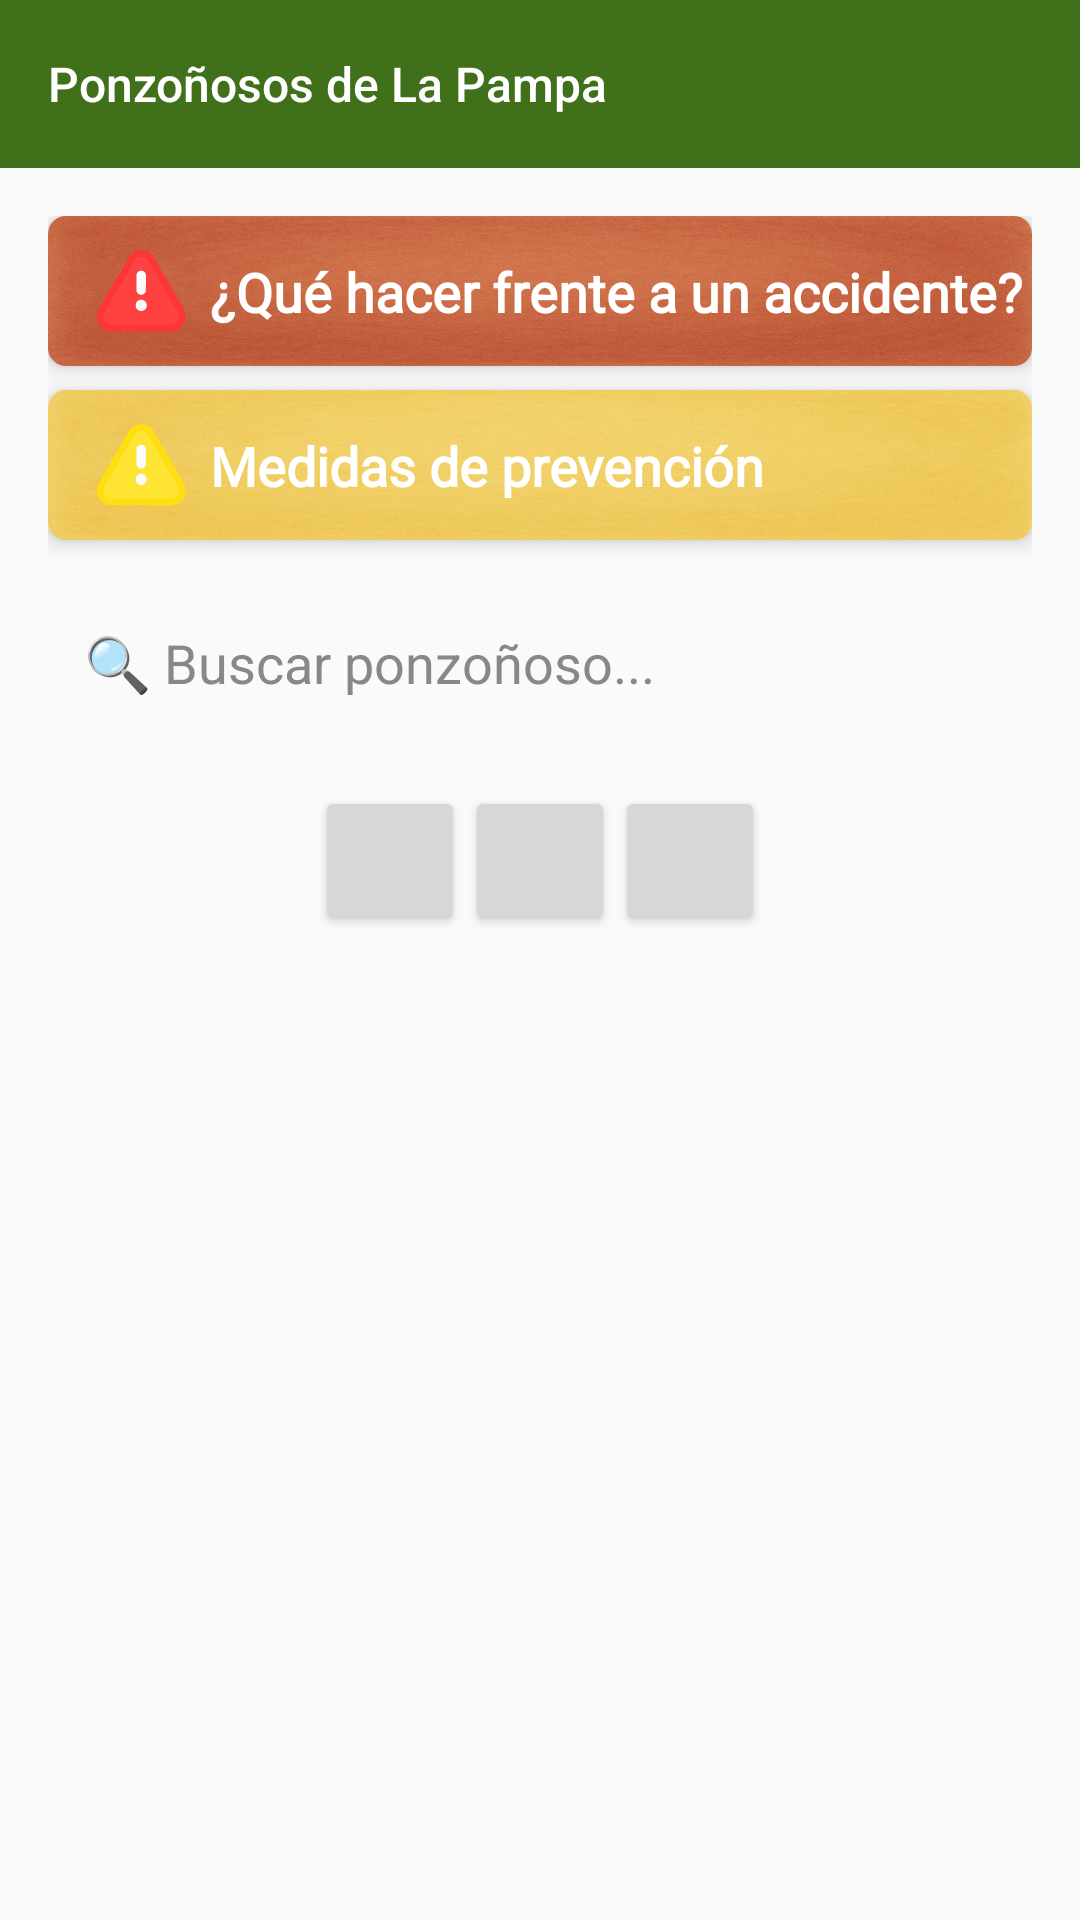

Icon bounding boxes for this 1080px×1920px phone screenshot, format (x1, y1, x2, y2):
danger: (97, 250, 186, 331)
precaution: (97, 424, 186, 506)
